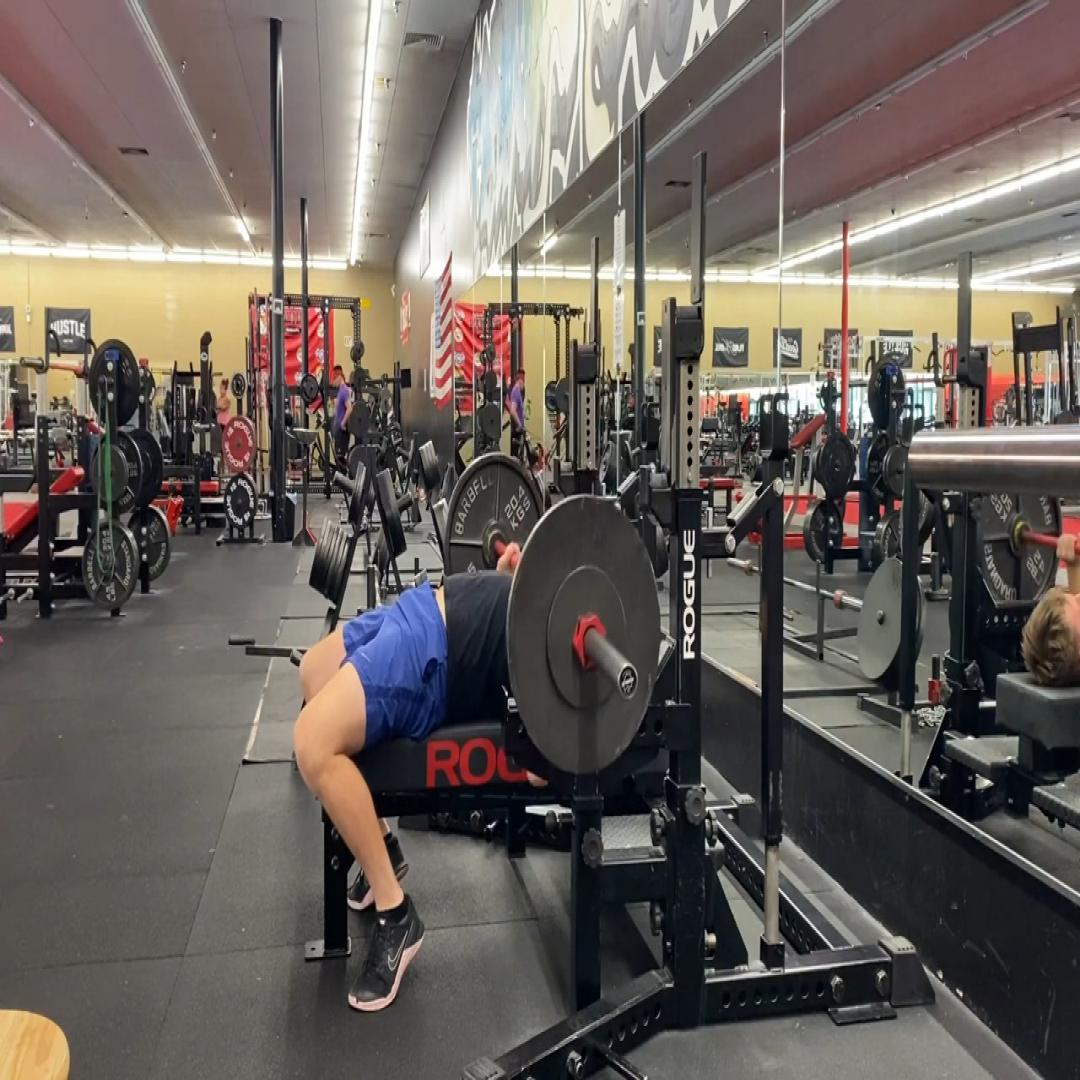Bar: (618, 663, 638, 701)
Barbell: (508, 495, 661, 773)
